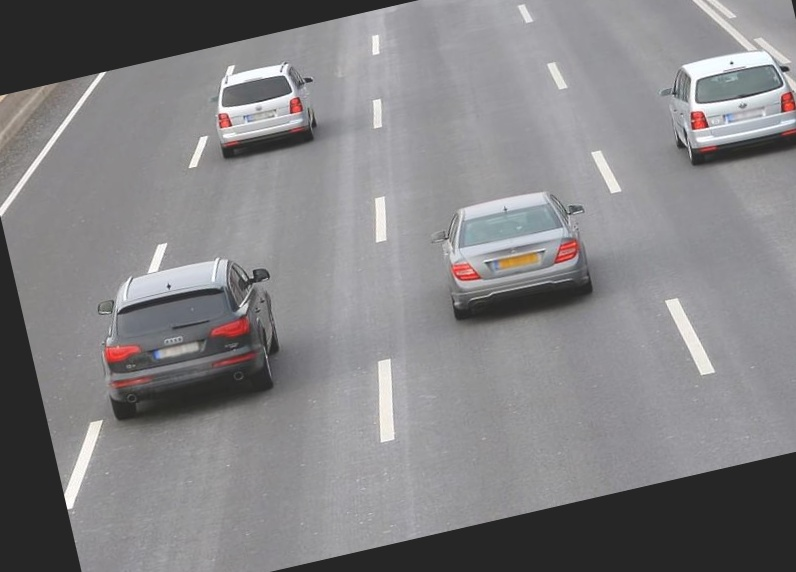car: (76, 226, 323, 439), (399, 158, 618, 354), (639, 22, 796, 207), (178, 42, 344, 192)
